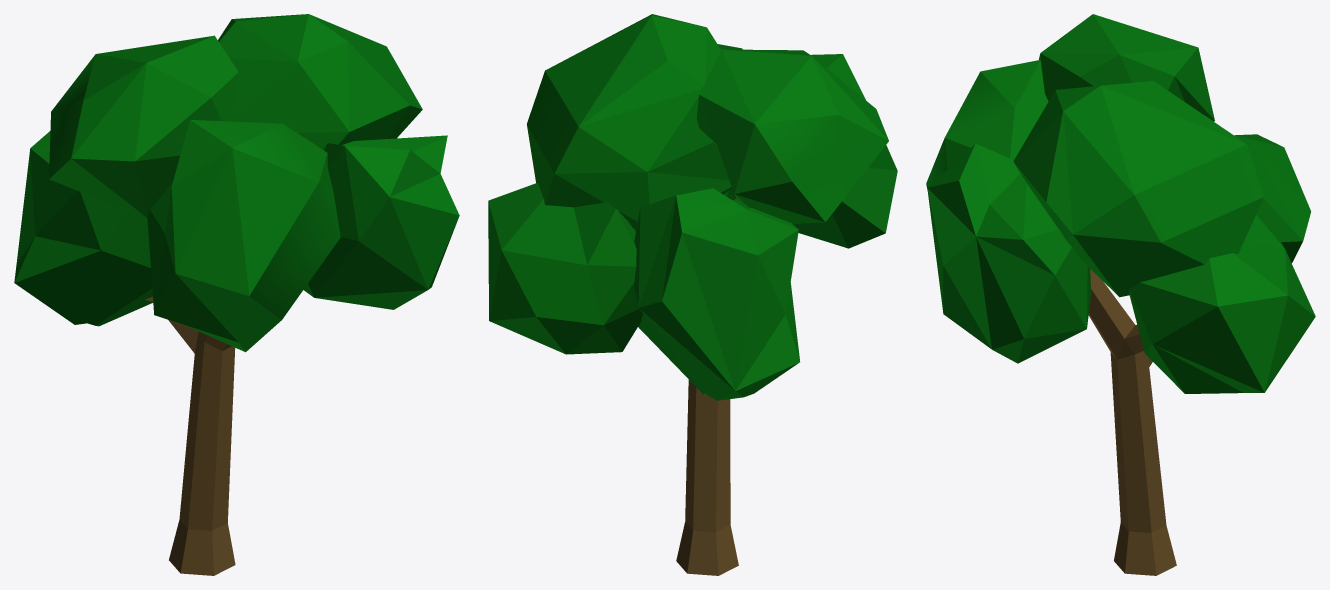
The model's file is Tree-03.fbx.
3 renders of one model, left to right at view 1: azimuth 30°, elevation 25°; view 2: azimuth 150°, elevation 25°; view 3: azimuth 270°, elevation 25°, orthographic. The views are drawn at different scales.
Parts seen in each view (by area): view 1: Tree-03; view 2: Tree-03; view 3: Tree-03.
Boxes of the visible parts, x1,y1,x2,y2 form: Tree-03: [14, 14, 459, 575]; Tree-03: [488, 14, 897, 575]; Tree-03: [926, 14, 1315, 575].
Size of what is drawn, in the model's own units: 4.26 by 6.22 by 4.26.
